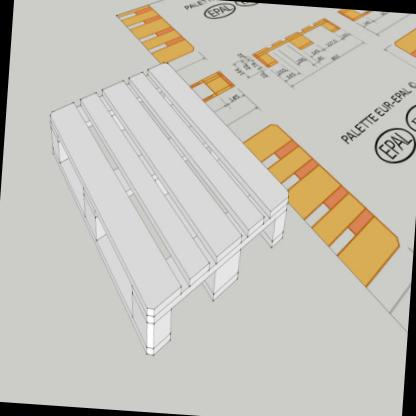BoxFace: (49, 59, 288, 361)
